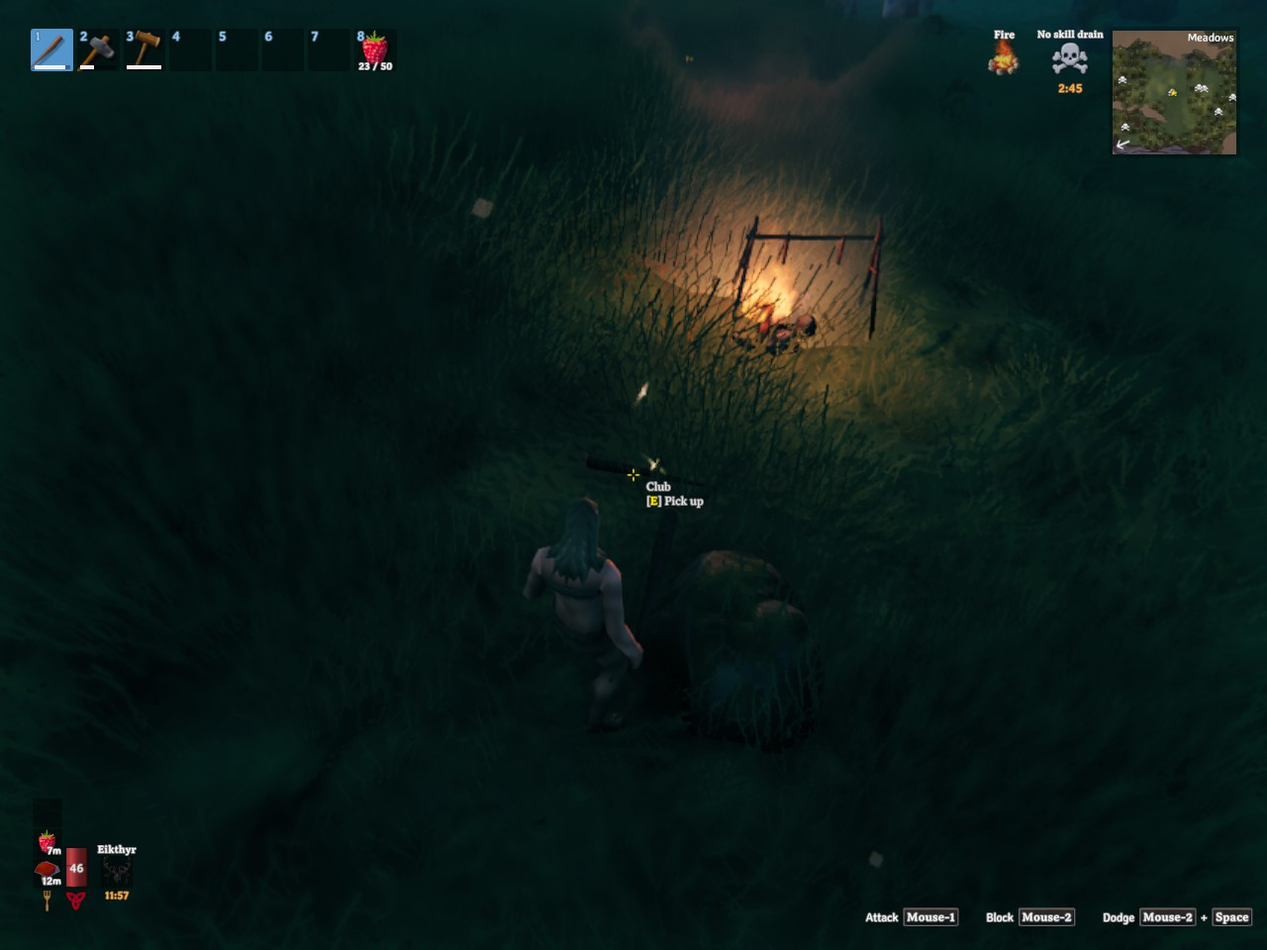Club: (637, 501, 677, 632), (585, 453, 642, 482)
Cook Station: (735, 218, 884, 282)
Fire: (749, 288, 820, 354)
Food Indicator: (35, 829, 66, 891)
Health Bar: (64, 844, 93, 893)
Hotbar: (28, 25, 410, 79)
Status Indicator: (982, 24, 1111, 106)
